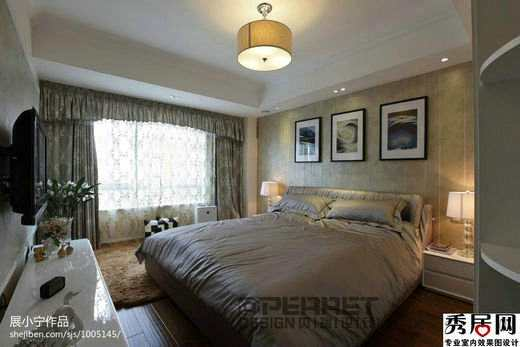床: (140, 207, 421, 336)
枕头: (279, 196, 406, 227)
灯: (232, 6, 293, 75), (255, 177, 287, 211), (434, 55, 449, 64), (331, 87, 344, 95)
